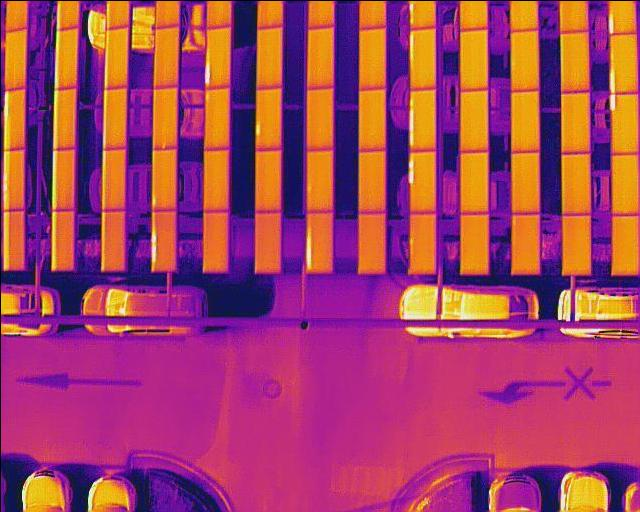Cell: (254, 84, 280, 151)
No-Anomaly: (510, 151, 540, 214), (509, 27, 538, 91), (358, 149, 386, 215), (560, 152, 589, 215), (510, 212, 539, 274), (459, 151, 487, 214), (610, 153, 638, 216), (561, 213, 589, 275), (510, 90, 538, 152), (459, 88, 486, 152), (560, 31, 588, 92), (561, 92, 589, 153), (459, 27, 486, 90), (254, 209, 281, 272), (150, 147, 176, 212), (306, 148, 332, 213), (610, 214, 637, 276), (358, 88, 385, 150), (357, 212, 384, 273), (306, 25, 332, 88), (203, 149, 229, 212), (153, 23, 178, 88), (307, 85, 332, 150), (459, 212, 486, 272), (202, 212, 229, 272), (358, 28, 384, 90), (409, 211, 435, 273), (409, 26, 434, 90), (204, 86, 229, 150), (100, 209, 126, 270), (104, 24, 128, 89), (52, 85, 76, 150), (102, 85, 126, 150), (256, 25, 281, 86), (254, 151, 279, 210), (101, 149, 125, 210), (54, 25, 77, 88), (152, 86, 175, 149), (51, 148, 73, 209), (3, 210, 25, 270), (4, 29, 26, 88), (50, 212, 72, 269), (3, 148, 23, 209)
Unclassified: (408, 151, 436, 214), (609, 94, 638, 154), (409, 88, 436, 151), (609, 32, 636, 93), (150, 208, 175, 272), (204, 25, 229, 87), (305, 211, 330, 271), (3, 88, 25, 148)
